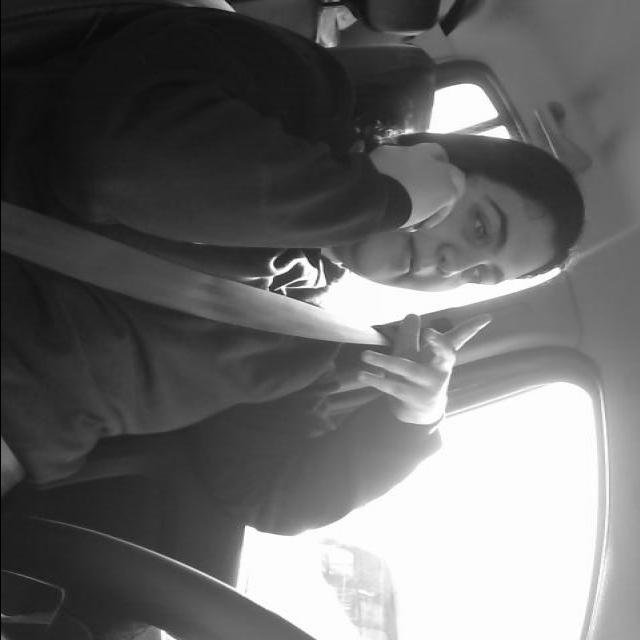mobile use: (362, 142, 468, 232)
